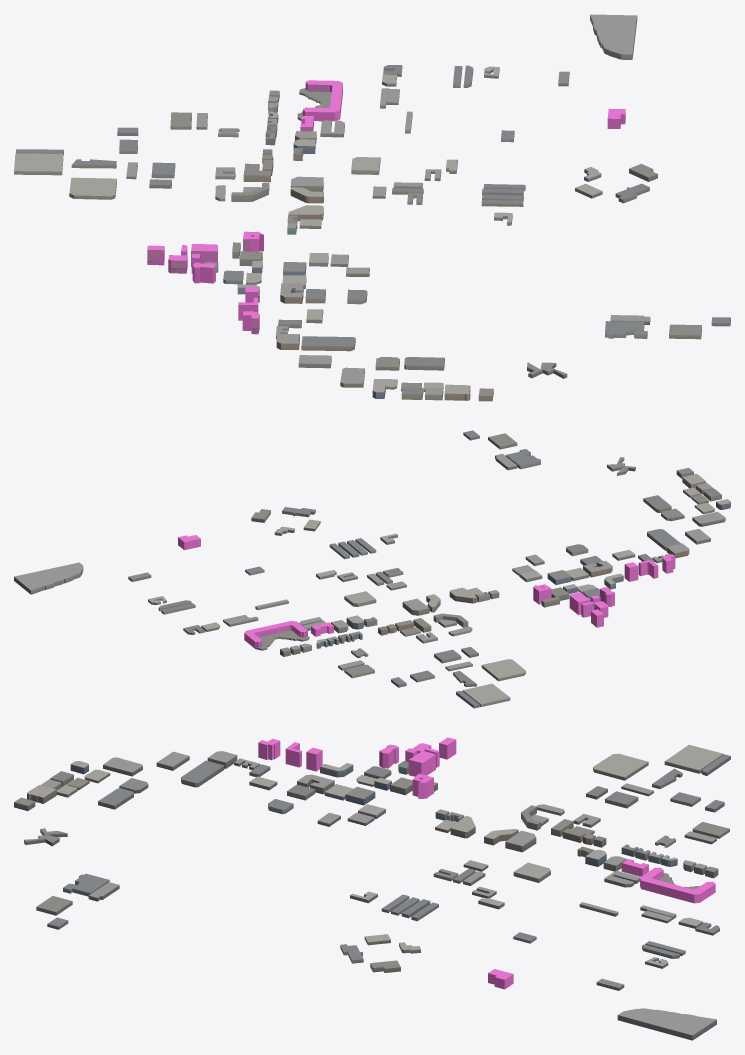
File: bld_18_13.fbx
The picture shows the model from 3 angles, top to bottom: view 1: azimuth 30°, elevation 25°; view 2: azimuth 150°, elevation 25°; view 3: azimuth 270°, elevation 25°; orthographic projection. The views are drawn at different scales.
Visible parts, largest first — view 1: bld_18_13_LOD0, bld_18_13_COL; view 2: bld_18_13_LOD0, bld_18_13_COL; view 3: bld_18_13_LOD0, bld_18_13_COL.
Part boxes in pixels (x1=…): bld_18_13_LOD0: x1=14, y1=14, x2=730, y2=401; bld_18_13_COL: x1=147, y1=80, x2=625, y2=334; bld_18_13_LOD0: x1=14, y1=430, x2=730, y2=708; bld_18_13_COL: x1=178, y1=535, x2=675, y2=648; bld_18_13_LOD0: x1=14, y1=744, x2=730, y2=1040; bld_18_13_COL: x1=258, y1=737, x2=715, y2=989.
Size of what is drawn, in the model's own units: 1975 by 53.82 by 2046.
